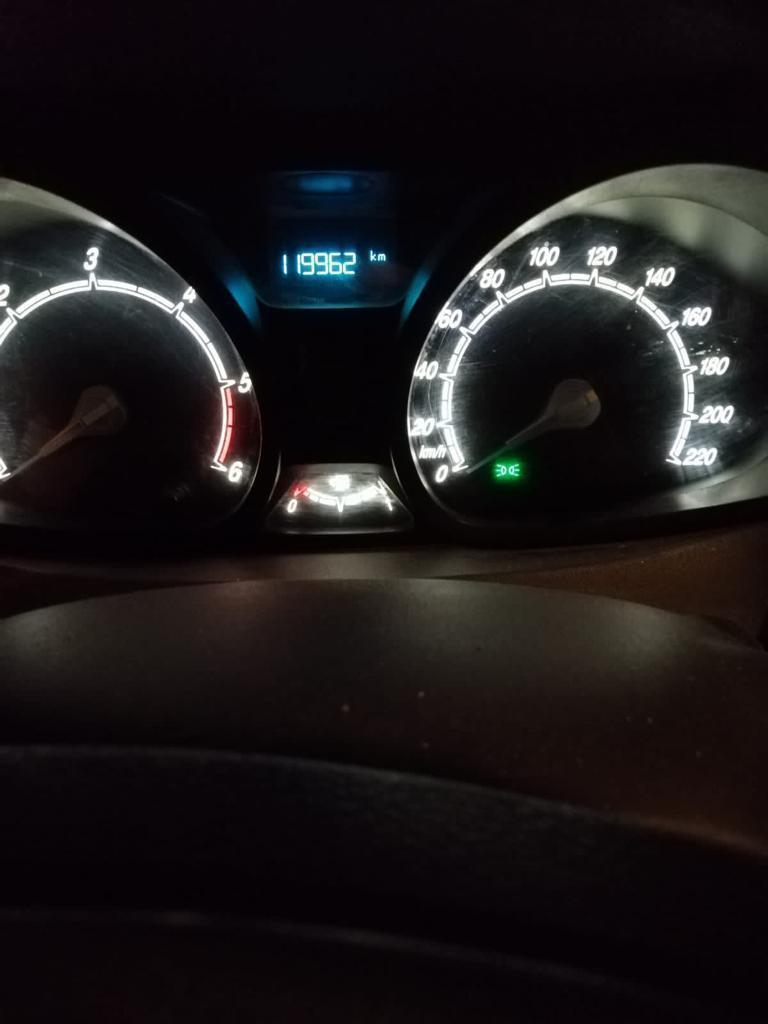1: (294, 251, 300, 277), (282, 251, 288, 277)
2: (343, 251, 356, 275)
6: (329, 251, 342, 275)
9: (301, 251, 314, 277), (315, 251, 328, 276)
X: (369, 248, 376, 261), (377, 252, 386, 262)
odometer: (269, 240, 394, 289)
